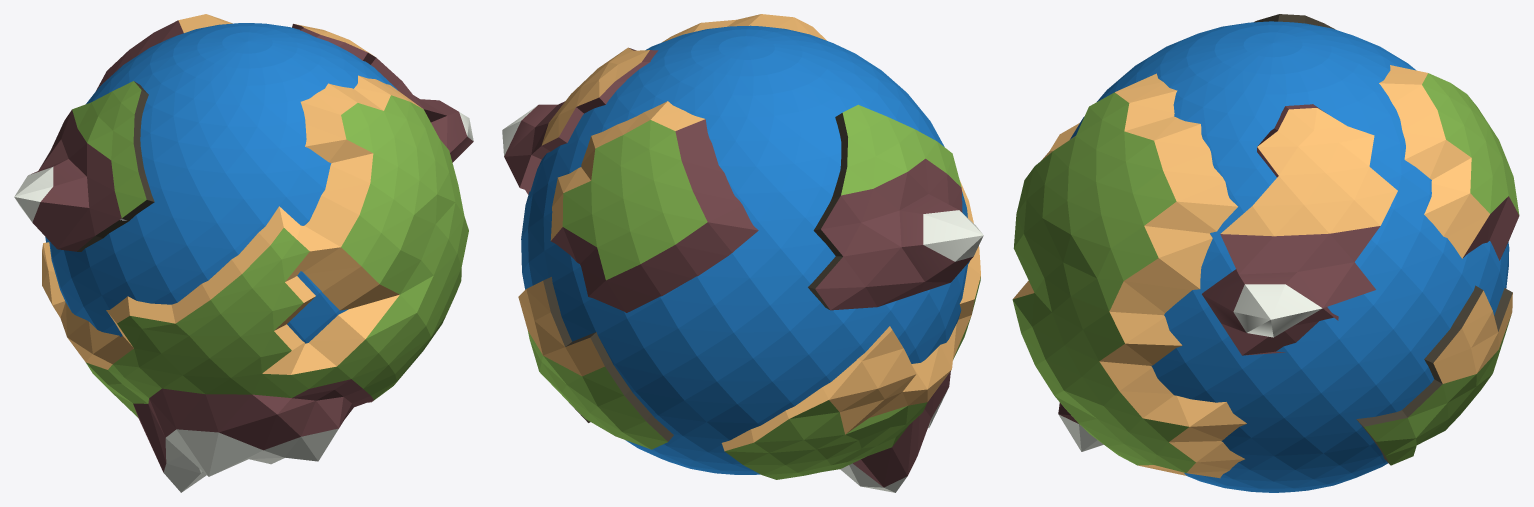
File: Globe.fbx
3 views of the same model, side by side, from view 1: azimuth 30°, elevation 25°; view 2: azimuth 150°, elevation 25°; view 3: azimuth 270°, elevation 25° (orthographic). The views are drawn at different scales.
Visible parts, largest first — view 1: pSphere3, pSphere4; view 2: pSphere3, pSphere4; view 3: pSphere3, pSphere4.
Part boxes in pixels (x1,y1,x2,y2): pSphere3: (14,14,473,492); pSphere4: (45,23,397,343); pSphere3: (502,14,983,492); pSphere4: (521,25,969,474); pSphere3: (1012,14,1519,478); pSphere4: (1070,21,1509,492).
Bounding box in the file's own units: 2.36 × 2.04 × 2.
